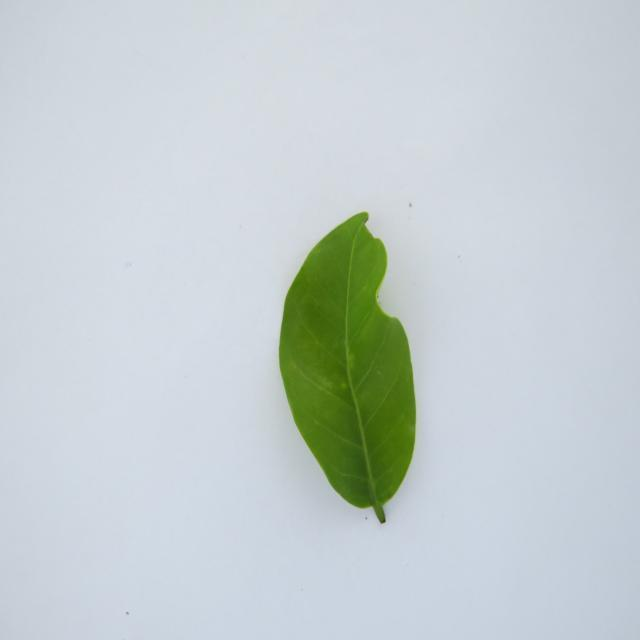DeficienciaNutricional-Boro: (279, 212, 416, 523)
